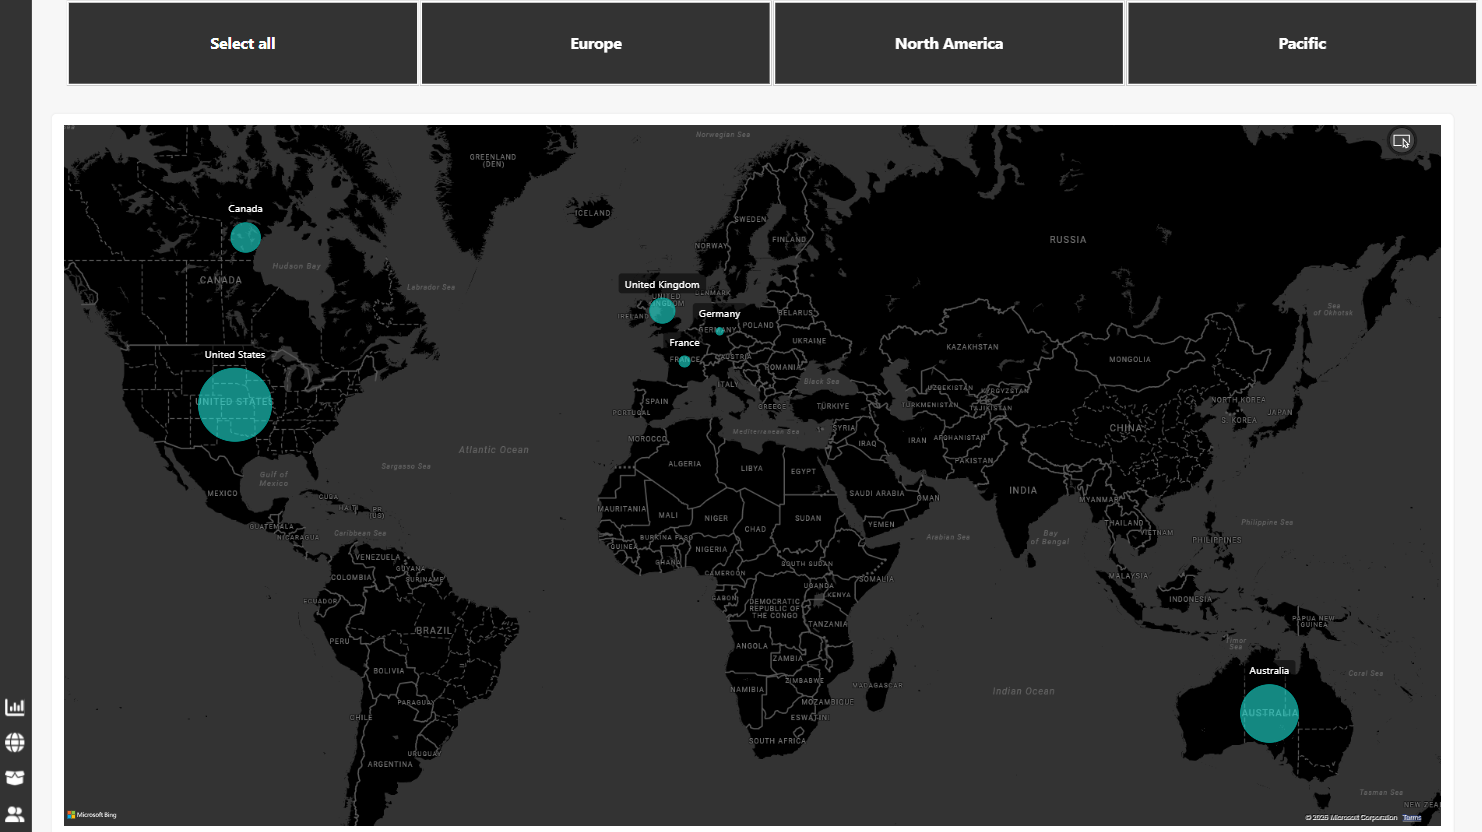

Layout of this report page (visuals, bound fields, positions):
{"tool":"powerbi","page":{"name":"Map","canvas":[1920,1080],"ordinal":1},"visuals":[{"type":"shape","box":[0,0,45,1080],"z":0},{"type":"map","fields":{"Category":["Territory Lookup.Country"],"Size":["Measure Table.Total Orders"]},"box":[68.8,145.8,1802.1,933.3],"z":1000},{"type":"slicer","fields":{"Values":["Territory Lookup.Continent"]},"box":[68.3,0,1851.7,113.1],"z":2000},{"type":"actionButton","box":[0.2,889.8,45.4,41.7],"z":3000},{"type":"actionButton","box":[0.2,934.6,45.4,41.7],"z":4000},{"type":"actionButton","box":[0.2,979.3,45.4,42.6],"z":5000},{"type":"actionButton","box":[0.2,1025,45.4,42.6],"z":6000}]}

Visuals, with their boxes in screenshot pixels (x1, y1, x2, y2):
shape: <region>27, 0, 61, 822</region>
map - Territory Lookup.Country x Measure Table.Total Orders: <region>79, 111, 1451, 821</region>
slicer - Territory Lookup.Continent: <region>79, 0, 1481, 86</region>
actionButton: <region>27, 677, 62, 709</region>
actionButton: <region>27, 711, 62, 743</region>
actionButton: <region>27, 745, 62, 778</region>
actionButton: <region>27, 780, 62, 813</region>
